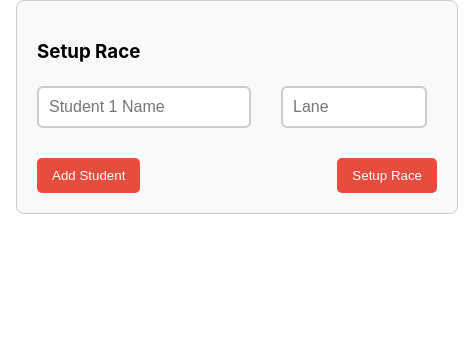
Scenario: RaceSetup Component › displays error message for duplicate lane numbers
Type "Alice" into the field with placeholder "Student 1 Name" at [144, 107], box [37, 86, 251, 128]
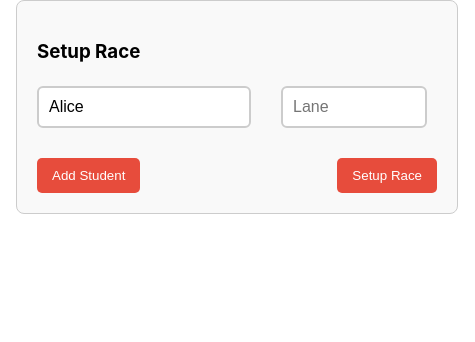
Type "1" into the number field with placeholder "Lane" at [354, 107], box [281, 86, 427, 128]
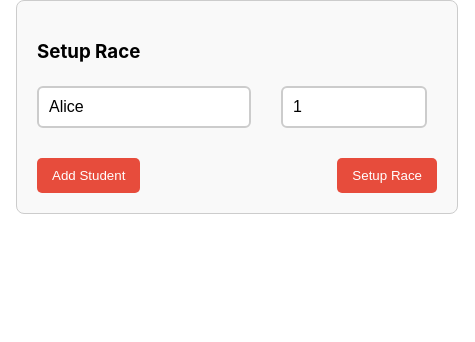
Click the button "Add Student" at [89, 176], box [37, 158, 140, 193]
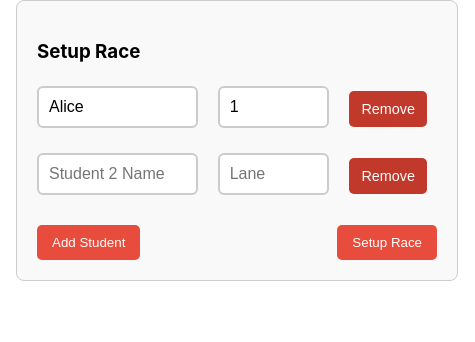
Type "Bob" into the field with placeholder "Student 2 Name" at [117, 174], box [37, 153, 198, 195]
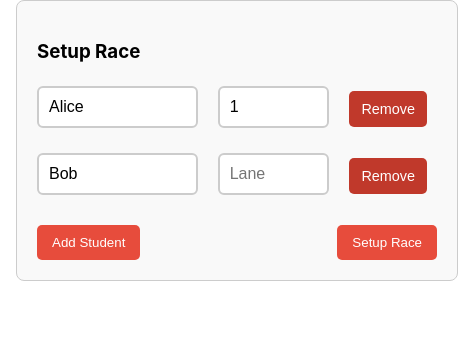
Type "1" into the number field with placeholder "Lane" at [274, 174], box [218, 153, 330, 195]
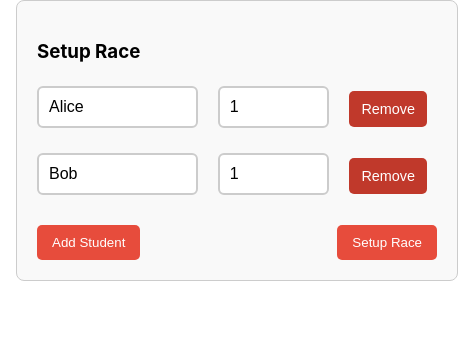
Try to submit the form
Click the button "Setup Race" at [387, 243], box [337, 225, 437, 260]
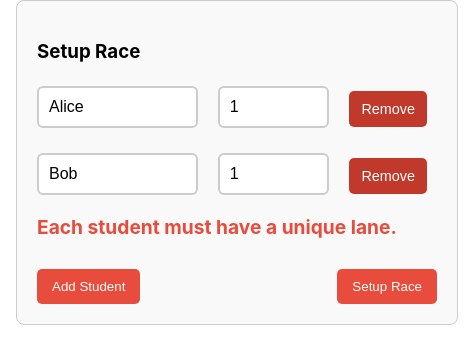
Expected: the text "Each student must have a unique lane." is shown, [37, 215, 437, 239]
